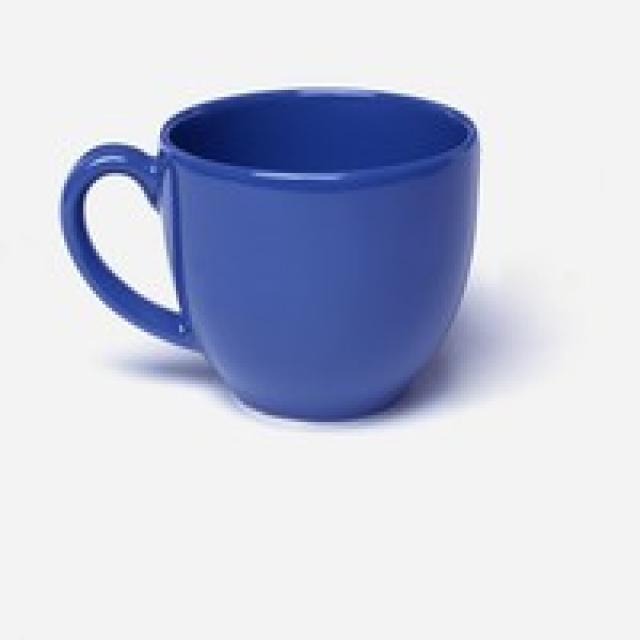Cup: (54, 78, 481, 424)
